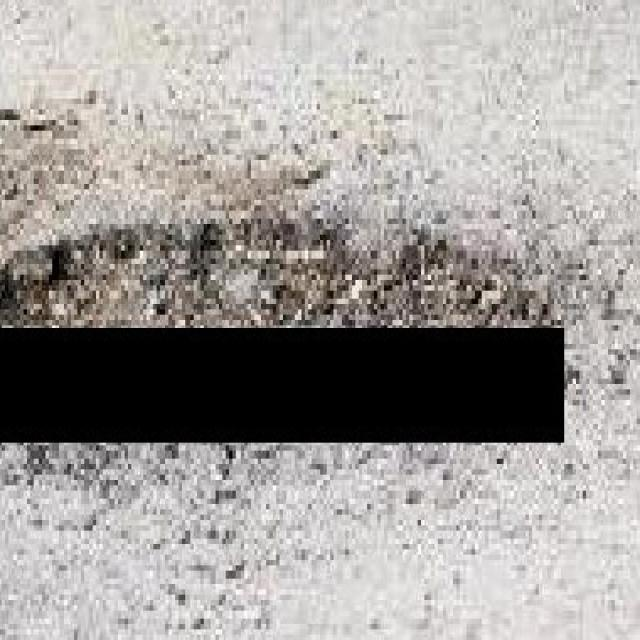road-pothole: (3, 218, 544, 331)
